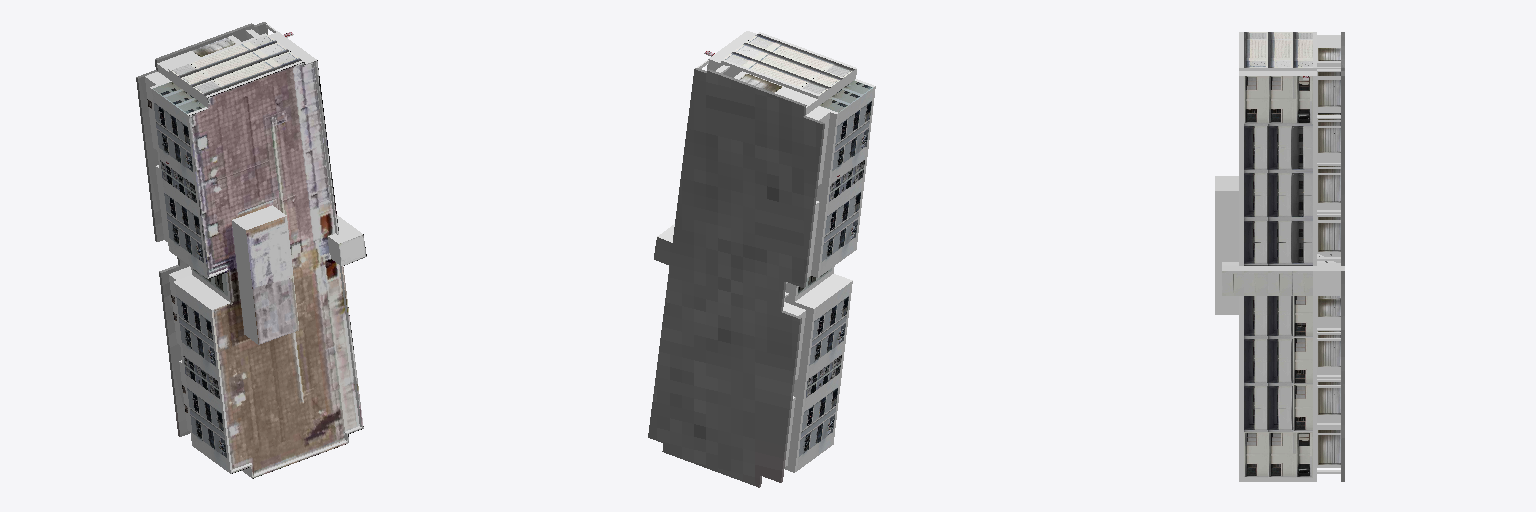
3 views of the same model, side by side, from view 1: azimuth 30°, elevation 25°; view 2: azimuth 150°, elevation 25°; view 3: azimuth 270°, elevation 25° (orthographic).
Parts seen in each view (by area): view 1: polygon.852; view 2: polygon.852; view 3: polygon.852.
Boxes of the visible parts, <box> form: polygon.852: <box>136,22,366,478</box>; polygon.852: <box>648,31,875,487</box>; polygon.852: <box>1215,32,1344,481</box>.
Bounding box in the file's own units: 24.43 × 53.91 × 15.68.
Materials: 1 (1 with a texture image).